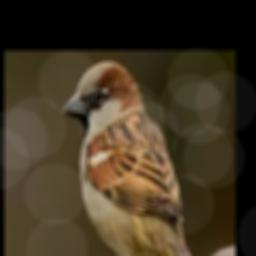Sparrow: (61, 60, 209, 256)
